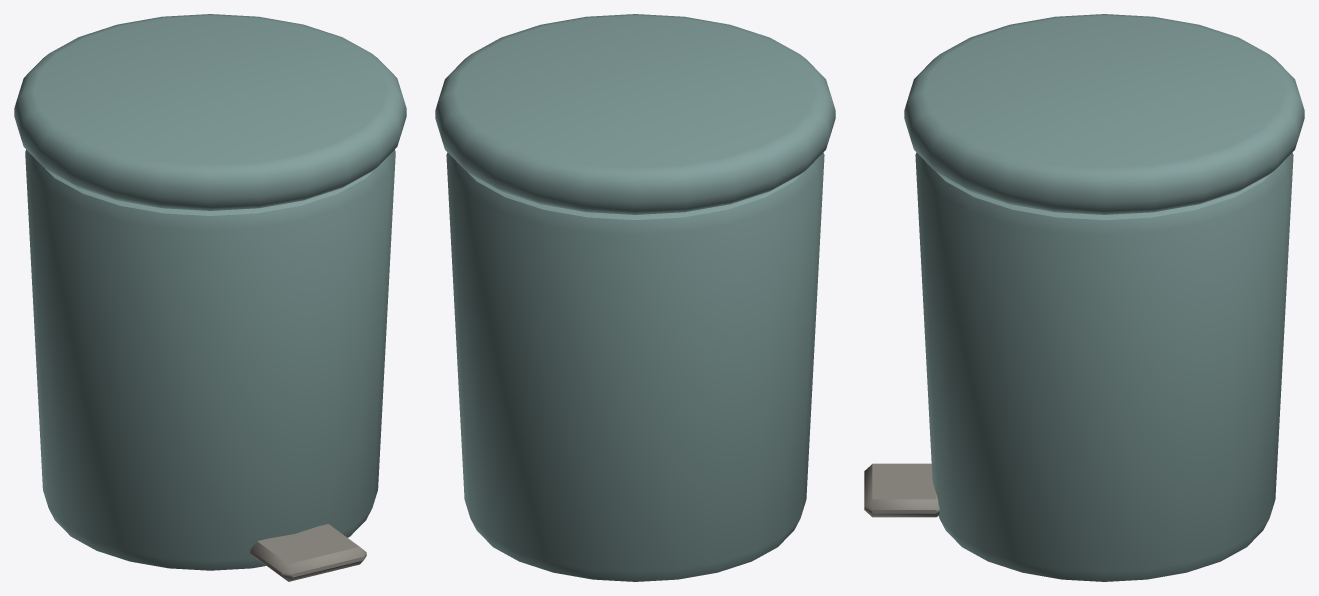
File: bin.glb
3 renders of one model, left to right at view 1: azimuth 30°, elevation 25°; view 2: azimuth 150°, elevation 25°; view 3: azimuth 270°, elevation 25°, orthographic. The views are drawn at different scales.
Visible parts, largest first — view 1: paint, steel_dark; view 2: paint; view 3: paint, steel_dark.
Part boxes in pixels (bbox=[...]): paint: bbox=[14, 14, 406, 570]; steel_dark: bbox=[250, 524, 366, 581]; paint: bbox=[435, 14, 835, 581]; paint: bbox=[904, 14, 1304, 581]; steel_dark: bbox=[864, 463, 939, 517].
Bounding box in the file's own units: 0.4 × 0.47 × 0.44.
